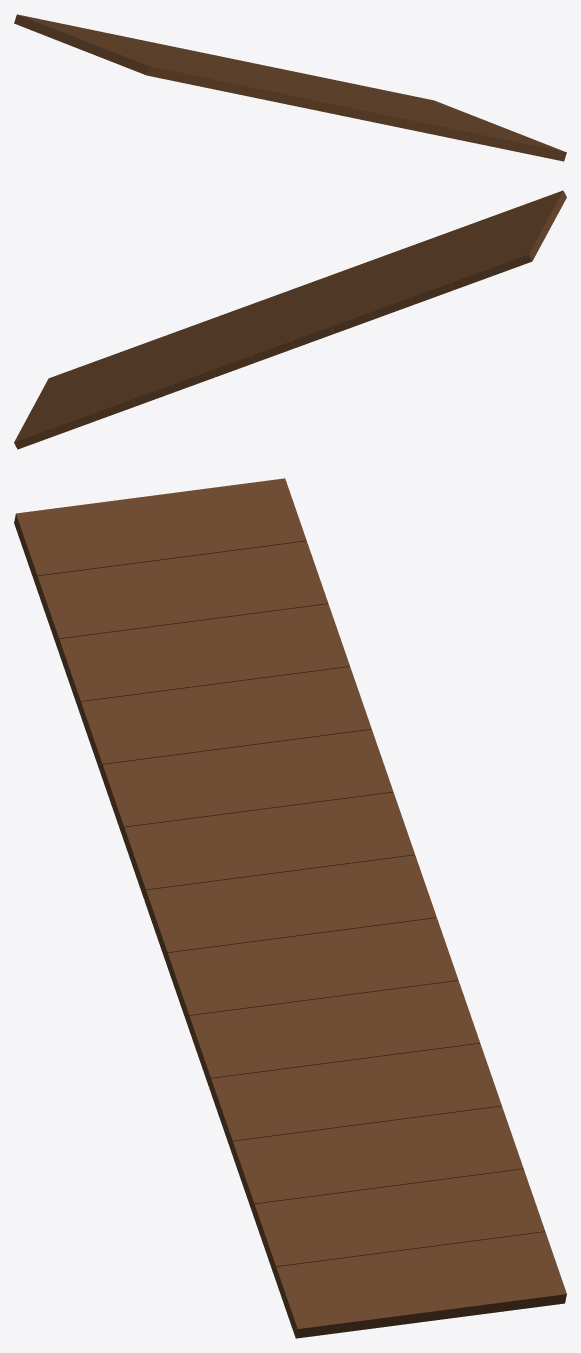
The model's file is Wooden_Stairs.fbx.
The picture shows the model from 3 angles, top to bottom: view 1: azimuth 30°, elevation 25°; view 2: azimuth 150°, elevation 25°; view 3: azimuth 270°, elevation 25°; orthographic projection. The views are drawn at different scales.
Parts seen in each view (by area): view 1: Wooden Stairs.002; view 2: Wooden Stairs.002; view 3: Wooden Stairs.002.
Part boxes in pixels (x1,y1,x2,y2): Wooden Stairs.002: (14,14,566,161); Wooden Stairs.002: (14,190,566,449); Wooden Stairs.002: (14,478,566,1338).
Size of the model in its own units: 8.53 by 4.15 by 4.71.
